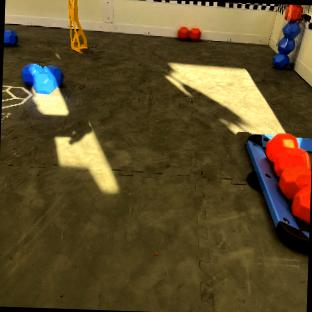V5_BLUE: (22, 64, 63, 93), (4, 31, 17, 45)
V5_RED: (265, 133, 312, 222), (178, 27, 201, 40)
